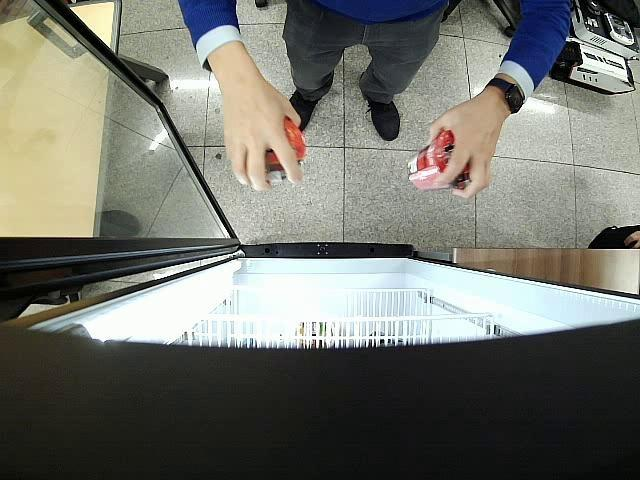02_shinRamen_S: (408, 128, 469, 190), (264, 118, 305, 184)
